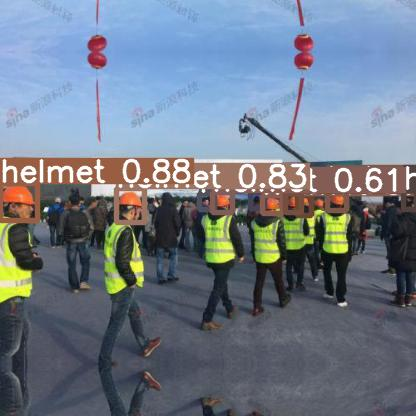head: (403, 190, 416, 209), (199, 193, 214, 209), (250, 192, 264, 208)
helmet: (0, 183, 37, 220), (116, 188, 144, 222), (212, 192, 232, 212), (327, 190, 346, 210), (262, 195, 282, 213), (285, 193, 301, 212), (297, 195, 311, 215)
